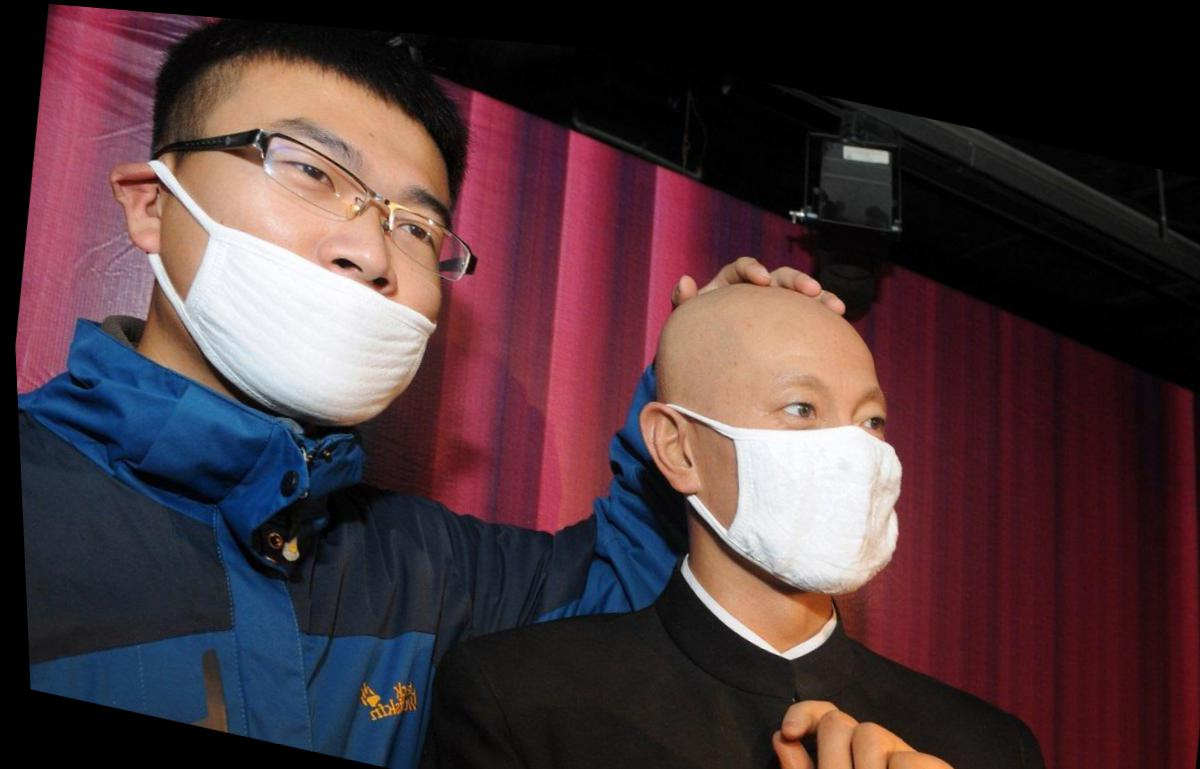OK: (652, 314, 926, 595)
WRONG: (154, 91, 495, 441)
